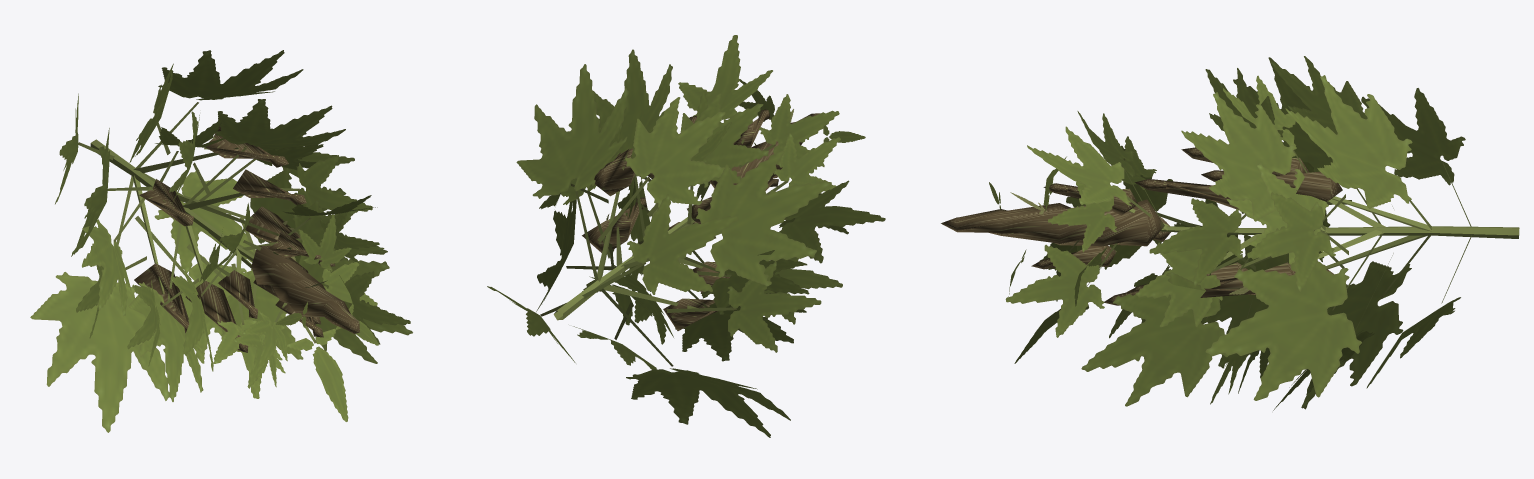
Rendered from p_dark_hybrid_flowering_c1_cards.obj.
3 renders of one model, left to right at view 1: azimuth 30°, elevation 25°; view 2: azimuth 150°, elevation 25°; view 3: azimuth 270°, elevation 25°, orthographic. The views are drawn at different scales.
Bounding box in the file's own units: 1.28 × 1.46 × 1.64.
Materials: 1 (1 with a texture image).
